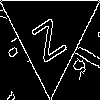Z: (25, 8, 68, 64)
